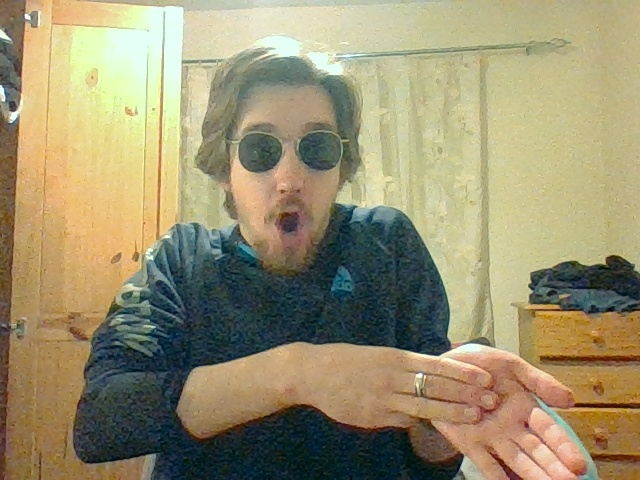mother: (388, 345, 591, 480)
